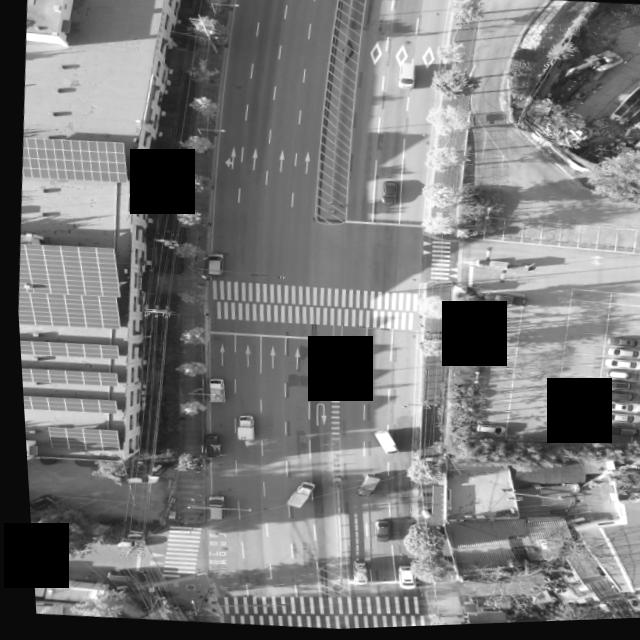car: (99, 567, 138, 583), (394, 64, 415, 92), (201, 254, 222, 280), (201, 495, 222, 521), (479, 294, 518, 308), (553, 411, 592, 424), (597, 393, 635, 406), (554, 398, 591, 411), (378, 181, 397, 206), (595, 415, 634, 427), (599, 403, 637, 415), (23, 493, 51, 509), (603, 429, 640, 441), (599, 361, 636, 373), (604, 341, 640, 353), (600, 372, 636, 384), (599, 384, 635, 396), (119, 473, 154, 485), (390, 569, 409, 591), (366, 521, 385, 542), (604, 351, 639, 362), (108, 538, 139, 549), (26, 564, 54, 576), (470, 427, 499, 437)
medium_truck: (605, 81, 640, 131)
small_truck: (277, 482, 311, 511), (366, 431, 397, 458), (228, 416, 252, 445), (349, 476, 376, 501), (197, 433, 220, 460), (203, 378, 224, 403), (345, 560, 364, 586)
